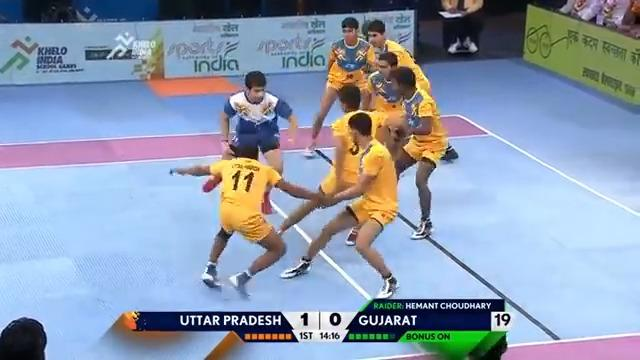Player: (168, 134, 322, 297), (278, 111, 401, 299), (364, 19, 458, 161), (386, 65, 448, 240), (303, 16, 379, 156)
Raider: (218, 70, 298, 213)
referee: (438, 0, 484, 55), (0, 316, 47, 359)
